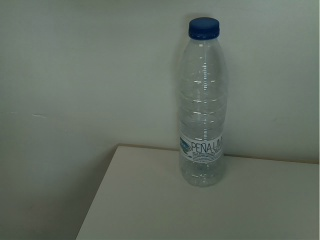botella plastico: (174, 15, 237, 191)
